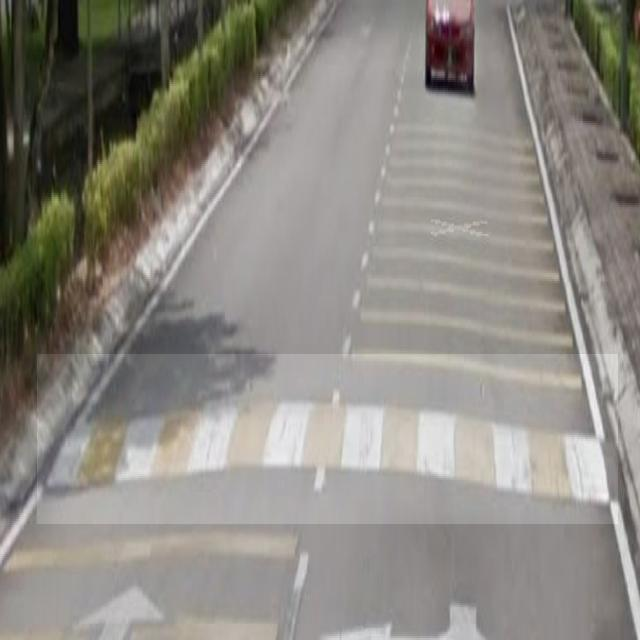speed-bump: (37, 354, 618, 524)
